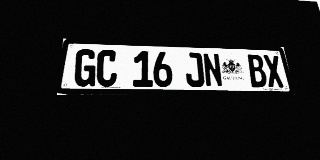1: (133, 51, 153, 87)
6: (153, 51, 173, 87)
B: (246, 54, 268, 87)
C: (96, 50, 118, 87)
G: (73, 49, 97, 87)
J: (184, 52, 205, 87)
N: (202, 53, 223, 87)
X: (262, 55, 285, 87)
